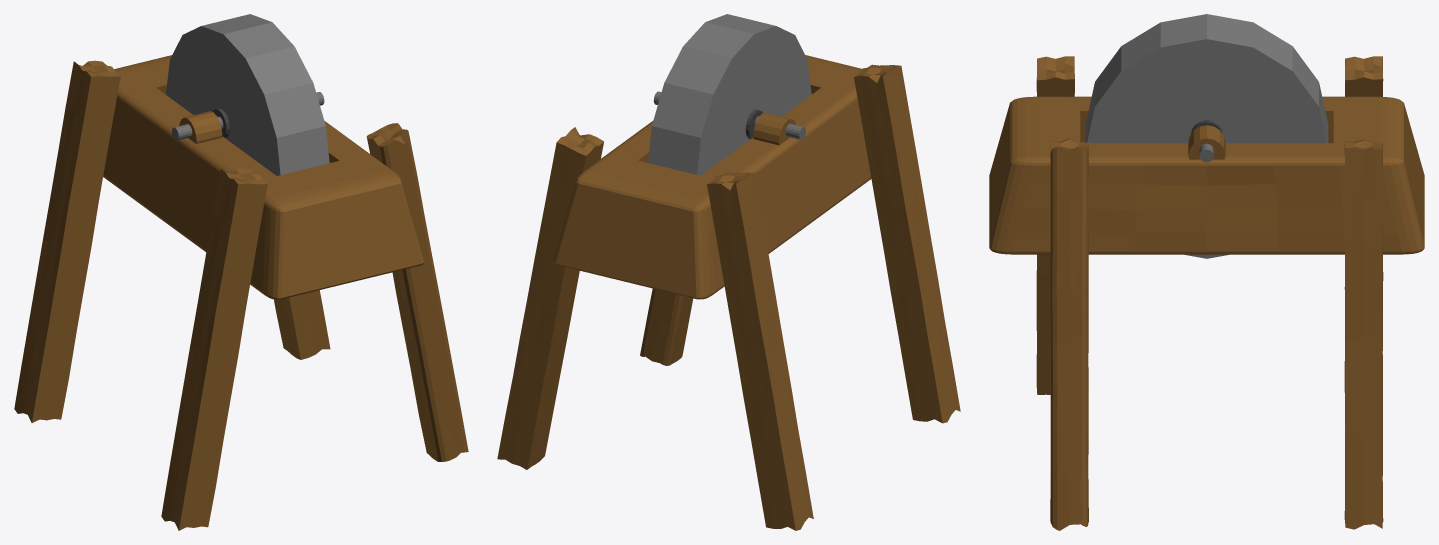
File: Grindstone.fbx
3 renders of one model, left to right at view 1: azimuth 30°, elevation 25°; view 2: azimuth 150°, elevation 25°; view 3: azimuth 270°, elevation 25°, orthographic. The views are drawn at different scales.
Parts seen in each view (by area): view 1: Cube, Cube.004, Cube.003, Cylinder, Cube.001, Cube.002, Cylinder.002; view 2: Cube, Cube.004, Cube.003, Cylinder, Cube.002, Cube.001, Cylinder.002; view 3: Cube, Cylinder, Cube.001, Cube.002, Cube.004, Cube.003, Cylinder.001.
Boxes of the visible parts, box(x1,y1,x2,y2) form: Cube: box(103, 55, 424, 299); Cube.004: box(161, 168, 267, 530); Cube.003: box(14, 60, 120, 422); Cylinder: box(165, 14, 329, 175); Cube.001: box(366, 123, 468, 461); Cube.002: box(274, 290, 330, 359); Cylinder.002: box(179, 111, 222, 143); Cube: box(553, 55, 871, 299); Cube.004: box(854, 64, 960, 423); Cube.003: box(707, 172, 813, 530); Cylinder: box(648, 14, 811, 175); Cube.002: box(497, 127, 603, 469); Cube.001: box(640, 288, 693, 365); Cylinder.002: box(753, 112, 795, 145); Cube: box(989, 96, 1424, 254); Cylinder: box(1085, 14, 1328, 258); Cube.001: box(1050, 138, 1088, 530); Cube.002: box(1344, 139, 1383, 529); Cube.004: box(1036, 56, 1074, 394); Cube.003: box(1345, 56, 1383, 369); Cylinder.001: box(1188, 125, 1225, 159).
Size of the model in its own units: 308 by 404 by 370.
